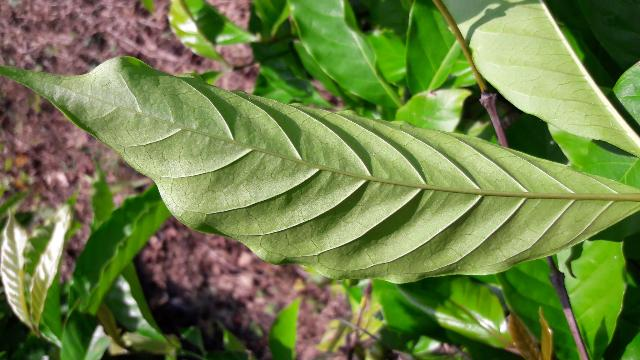healthy: (1, 54, 640, 283)
